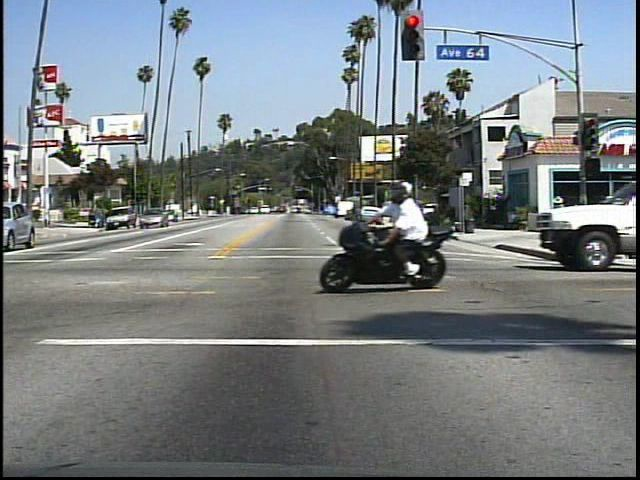person: (374, 178, 445, 284), (548, 192, 575, 214)
